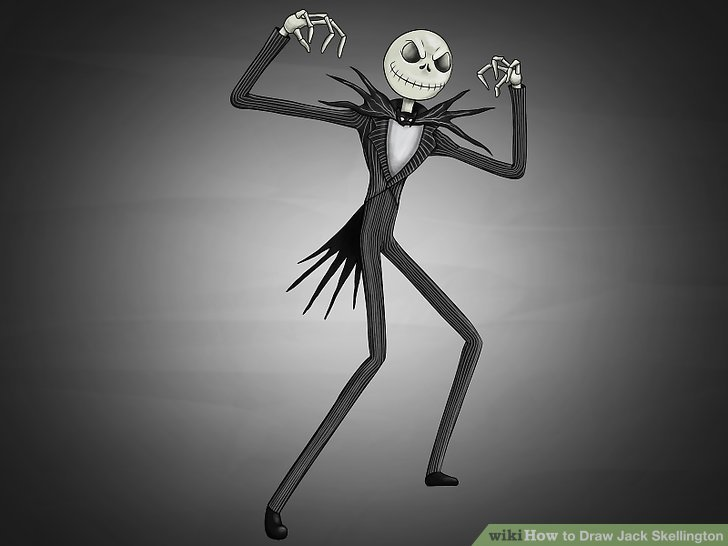Jack Skellington: (228, 10, 530, 539)
